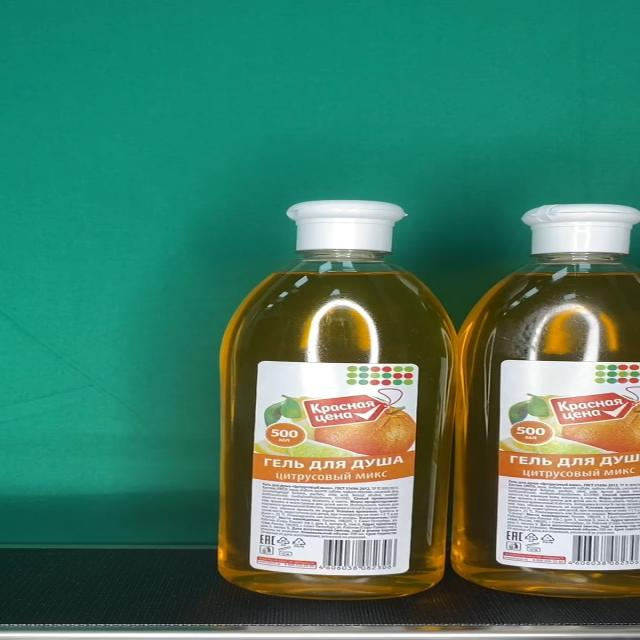Bottle: (215, 200, 459, 599), (461, 199, 640, 599)
Cap: (286, 200, 407, 252), (521, 203, 640, 254)
